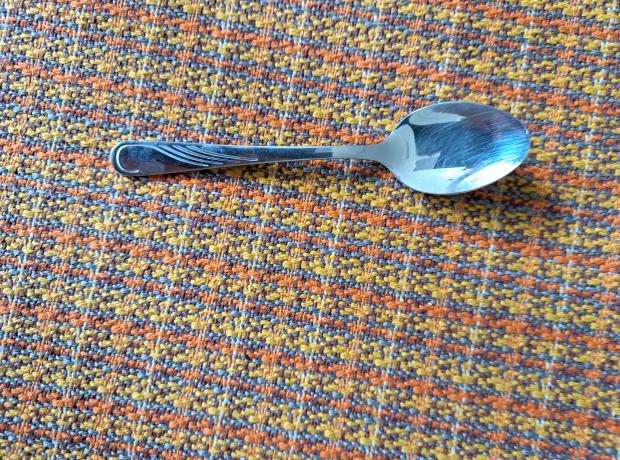metal: (108, 105, 536, 201)
